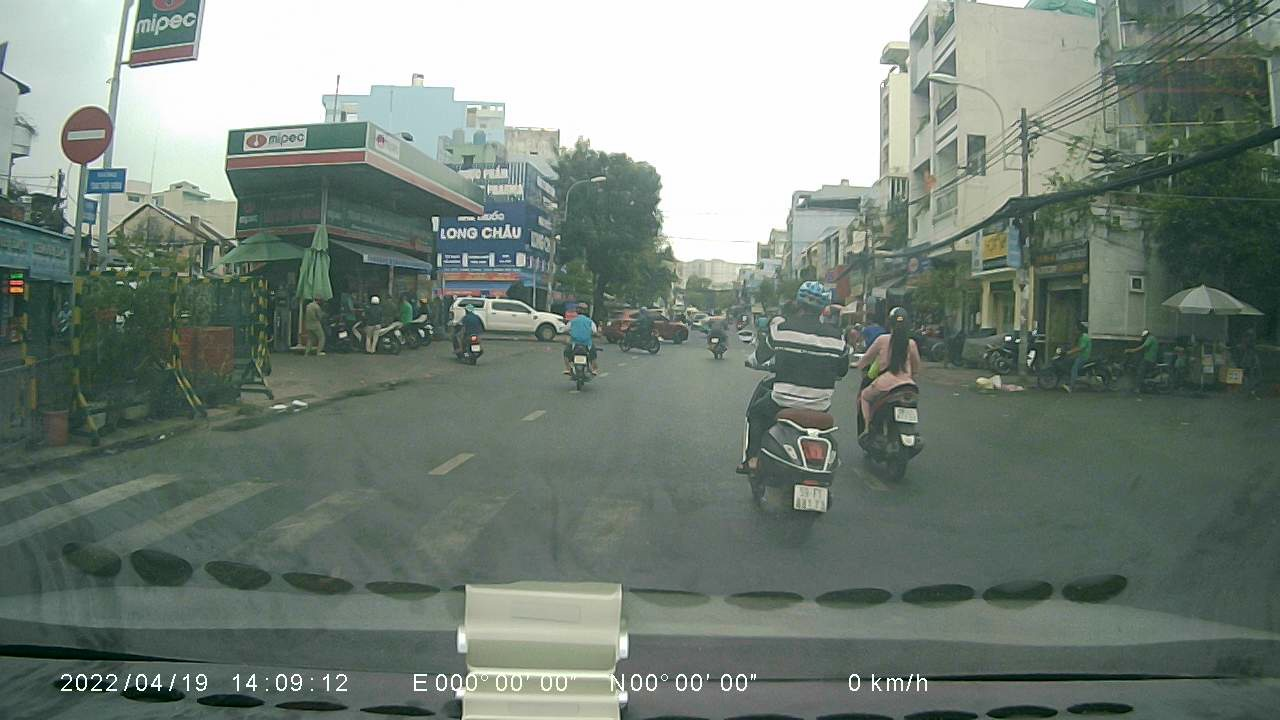Cam di nguoc chieu: (59, 102, 120, 167)
